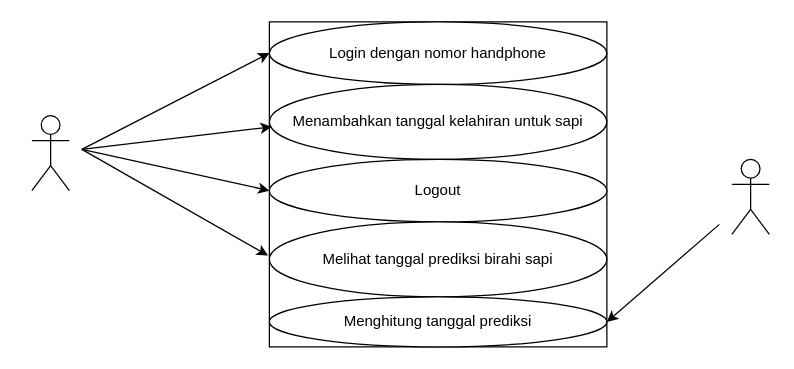
Some shapes in this 794 by 369 pixel diagram are drawn without their labels. Here are the shapes that lost their labels. From the top down, the box of each, then its label:
(31, 114, 69, 191): peternak
(731, 158, 769, 234): sistem
